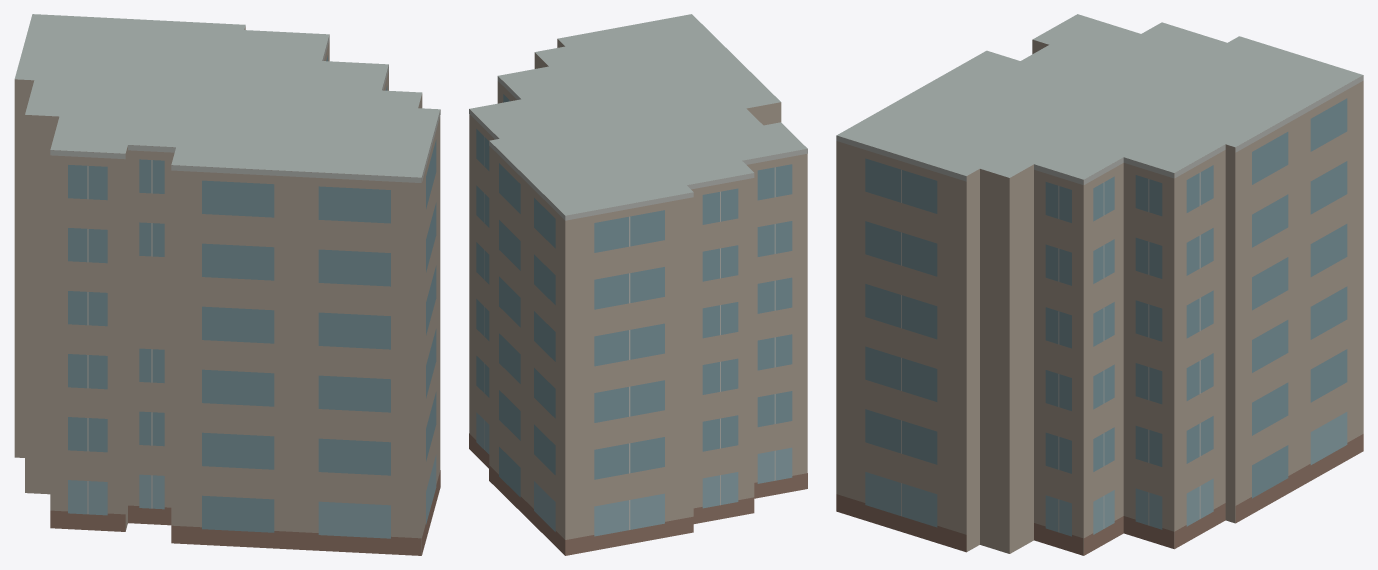
File: survey-upis-32629647.glb
3 renders of one model, left to right at view 1: azimuth 30°, elevation 25°; view 2: azimuth 150°, elevation 25°; view 3: azimuth 270°, elevation 25°, orthographic. The views are drawn at different scales.
Parts seen in each view (by area): view 1: survey-upis-32629647.tmp; view 2: survey-upis-32629647.tmp; view 3: survey-upis-32629647.tmp.
Part boxes in pixels (x1,y1,x2,y2): survey-upis-32629647.tmp: [14, 14, 440, 555]; survey-upis-32629647.tmp: [469, 14, 807, 555]; survey-upis-32629647.tmp: [836, 14, 1363, 555].
Bounding box in the file's own units: 15.89 × 16.8 × 21.34.
